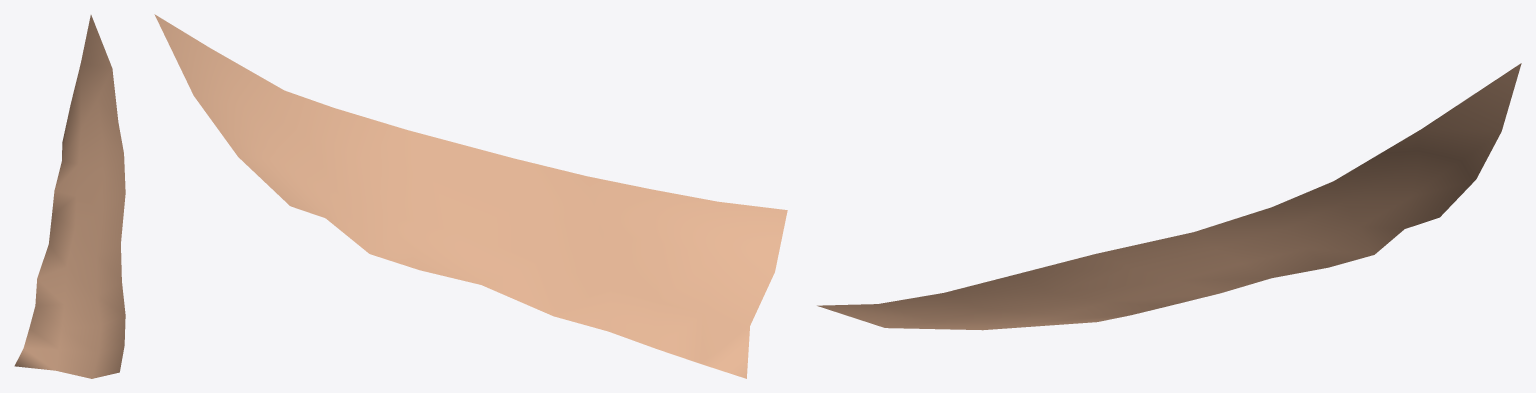
Rendered from submandibular-triangle-l.glb.
3 views of the same model, side by side, from view 1: azimuth 30°, elevation 25°; view 2: azimuth 150°, elevation 25°; view 3: azimuth 270°, elevation 25° (orthographic). The views are drawn at different scales.
Visible parts, largest first — view 1: Submandibular triangle.l; view 2: Submandibular triangle.l; view 3: Submandibular triangle.l.
Boxes of the visible parts, x1,y1,x2,y2 form: Submandibular triangle.l: (14, 15, 125, 378); Submandibular triangle.l: (154, 14, 787, 378); Submandibular triangle.l: (817, 63, 1521, 330).
Bounding box in the file's own units: 0.0344 × 0.0387 × 0.0554.
